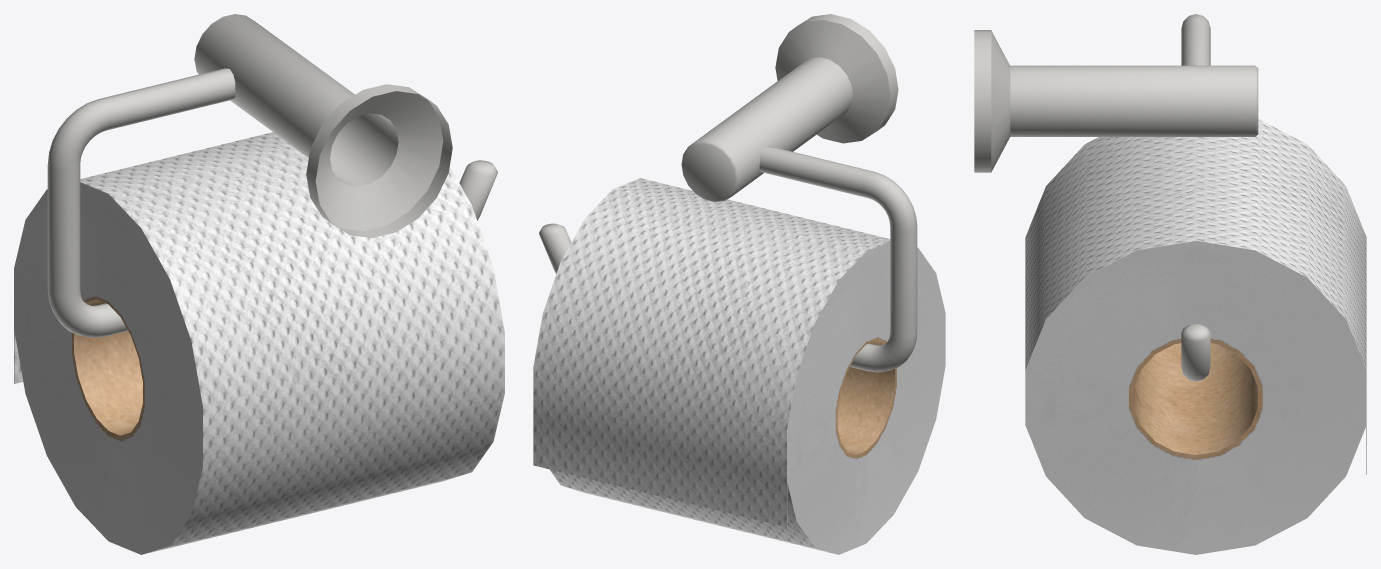
The model's file is ToiletPaper01.FBX.
The picture shows the model from 3 angles, left to right: view 1: azimuth 30°, elevation 25°; view 2: azimuth 150°, elevation 25°; view 3: azimuth 270°, elevation 25°; orthographic projection. The views are drawn at different scales.
Parts seen in each view (by area): view 1: ToiletPaper01; view 2: ToiletPaper01; view 3: ToiletPaper01.
Boxes of the visible parts, x1,y1,x2,y2 form: ToiletPaper01: (14,14,504,554); ToiletPaper01: (533,14,945,554); ToiletPaper01: (974,14,1366,554).
Size of the model in its own units: 22.15 by 23.73 by 18.68.
